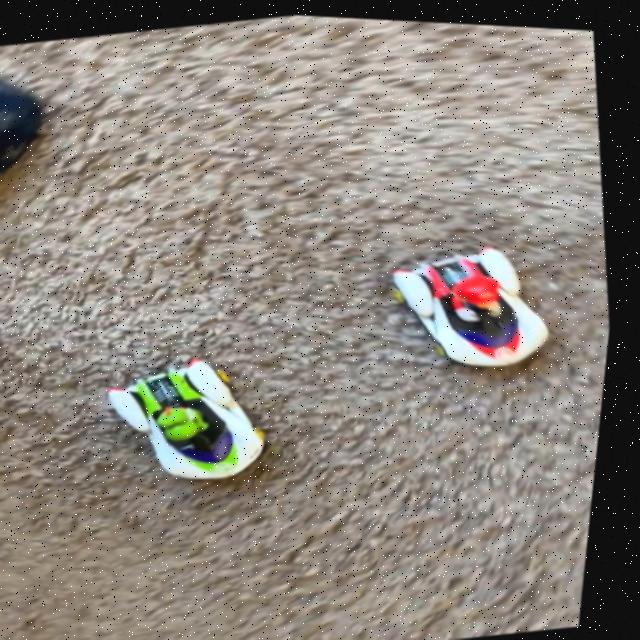mario: (369, 215, 584, 396)
yoshi: (82, 321, 310, 509)
